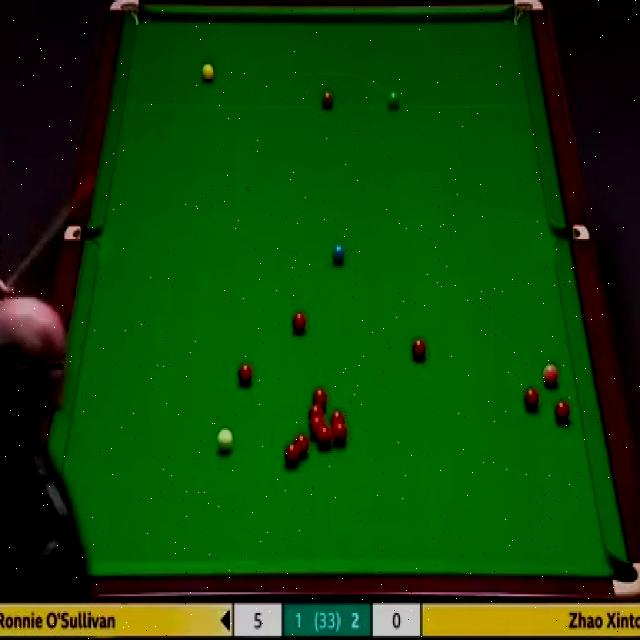blue-ball: (331, 242, 346, 264)
brown-ball: (321, 89, 334, 110)
green-ball: (388, 91, 400, 109)
pink-ball: (542, 362, 558, 388)
red-ball: (237, 362, 254, 389), (283, 443, 300, 469), (294, 436, 312, 460), (554, 400, 572, 424), (525, 387, 542, 412), (332, 422, 348, 448), (412, 337, 427, 362), (292, 312, 308, 335), (318, 425, 332, 448), (311, 388, 328, 405), (309, 418, 324, 437), (308, 404, 323, 421), (330, 412, 344, 426)
white-ball: (217, 430, 236, 455)
yellow-ball: (202, 64, 216, 85)
